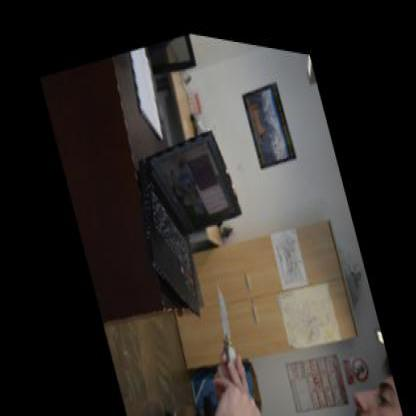knife: (201, 264, 245, 368)
